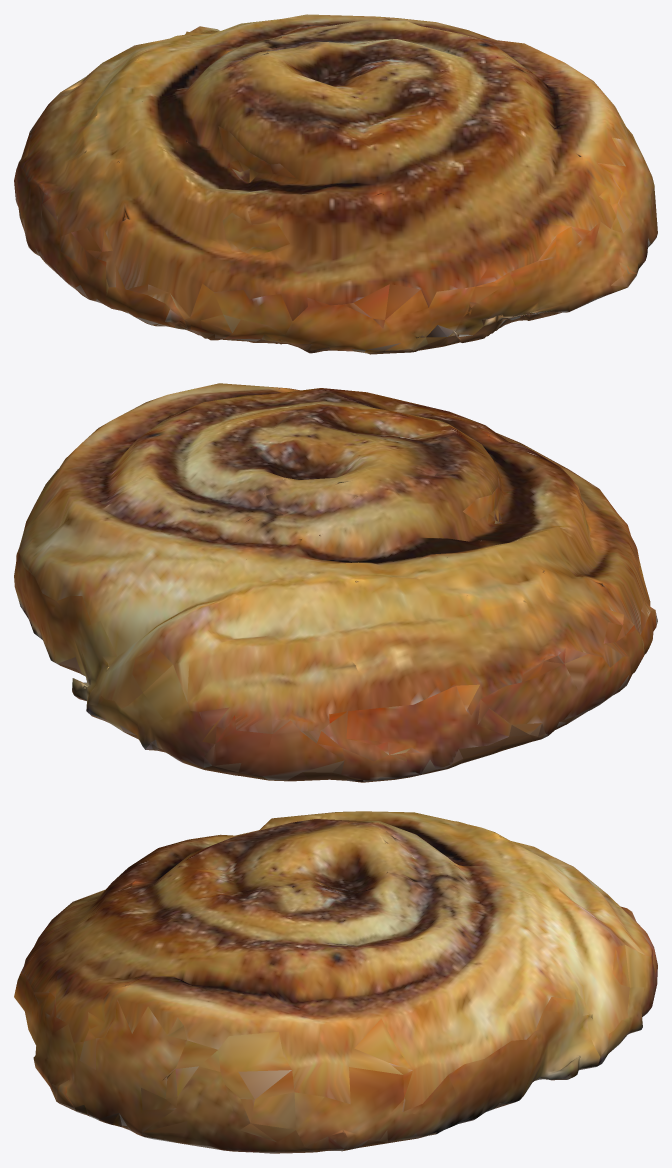
File: cinnamon_3052.obj
3 views of the same model, one above another, from view 1: azimuth 30°, elevation 25°; view 2: azimuth 150°, elevation 25°; view 3: azimuth 270°, elevation 25° (orthographic). The views are drawn at different scales.
Bounding box in the file's own units: 110 × 34.09 × 115.
1 material, 1 textured.
